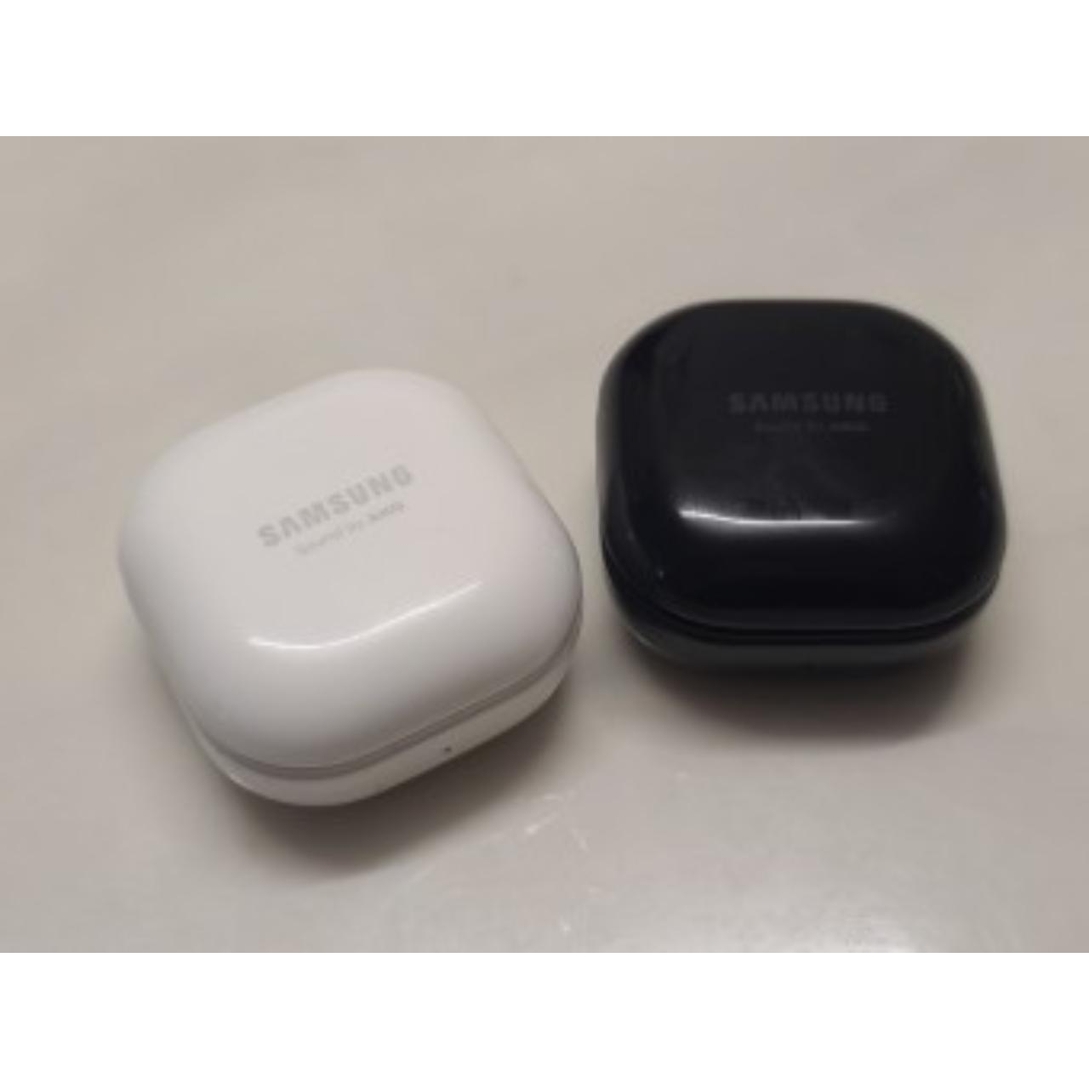Buds: (116, 361, 585, 830), (597, 294, 1015, 685)
